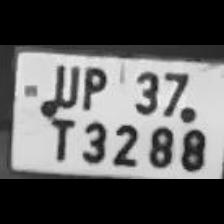2: (107, 118, 139, 168)
3: (128, 65, 160, 115), (77, 117, 107, 165)
7: (158, 66, 192, 120)
8: (176, 123, 208, 173), (143, 122, 175, 168)
P: (77, 61, 109, 111)
T: (41, 113, 76, 164)
U: (44, 60, 80, 110)
